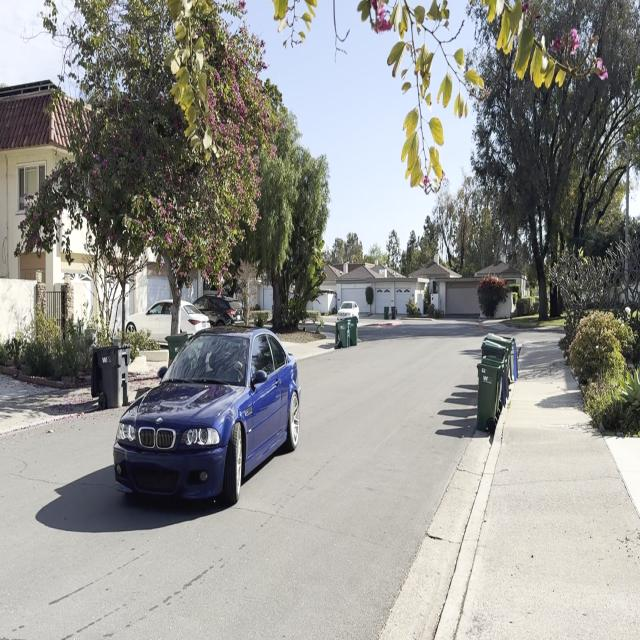Carbeetle: (100, 309, 304, 527)
